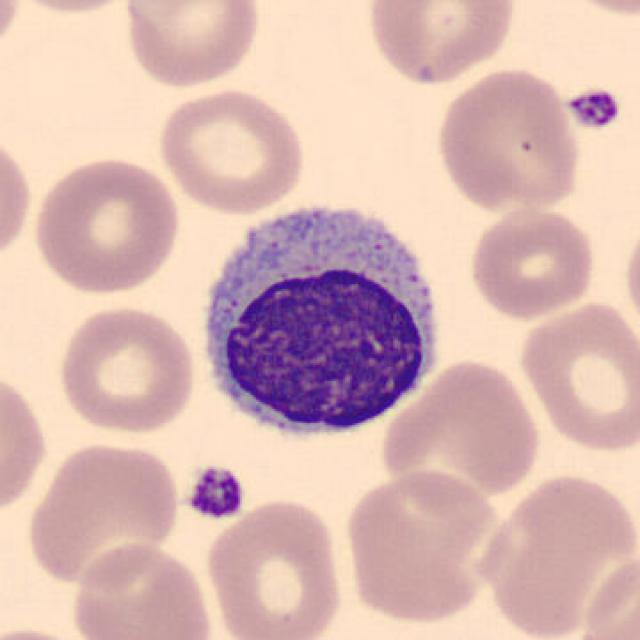Lymphocyte: (188, 188, 450, 448)
Platelets: (181, 462, 247, 522), (564, 83, 626, 134)
RBC: (469, 466, 636, 638), (340, 465, 503, 626), (23, 437, 183, 591), (377, 356, 546, 501), (430, 64, 583, 215), (29, 152, 183, 296), (202, 495, 346, 640), (153, 83, 309, 215), (53, 302, 199, 436), (514, 298, 638, 455), (464, 204, 599, 321), (67, 539, 216, 640), (363, 0, 521, 88), (119, 0, 265, 92), (0, 365, 52, 522), (576, 548, 638, 640), (0, 127, 34, 270), (620, 210, 640, 342), (0, 0, 148, 16), (2, 622, 108, 640), (545, 0, 638, 19), (0, 0, 23, 71)
